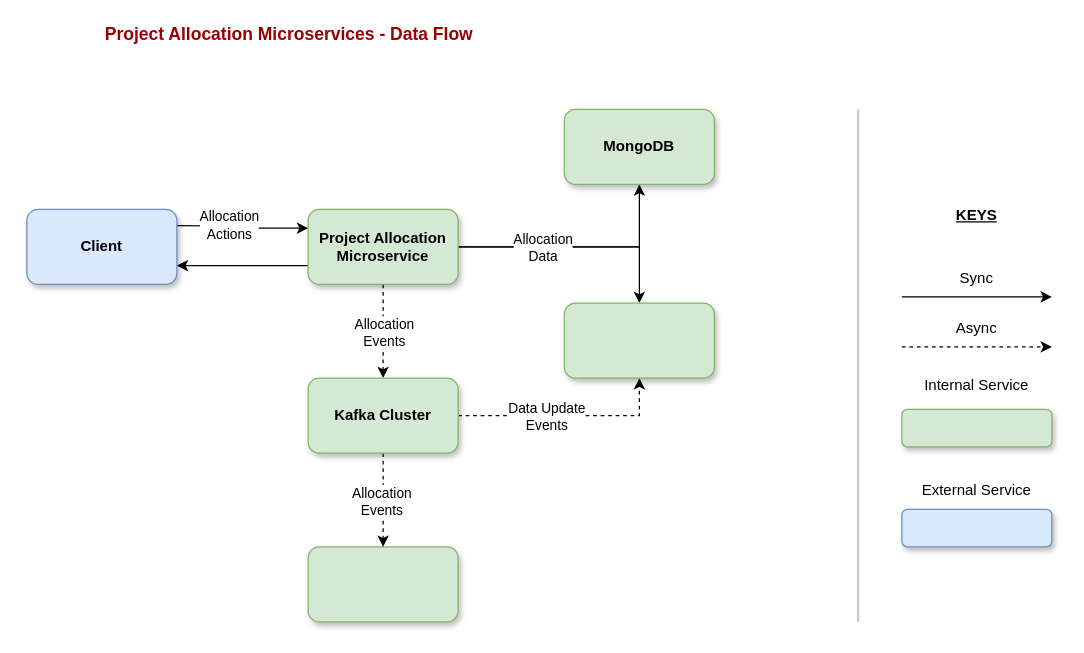
The diagram is 1084 pixels wide and 653 high, and some of its shapes have lost their labels. Each missing label, with the centre of its shape:
"Email Microservice" belongs at point (384, 586).
"Redis Cache" belongs at point (640, 342).
